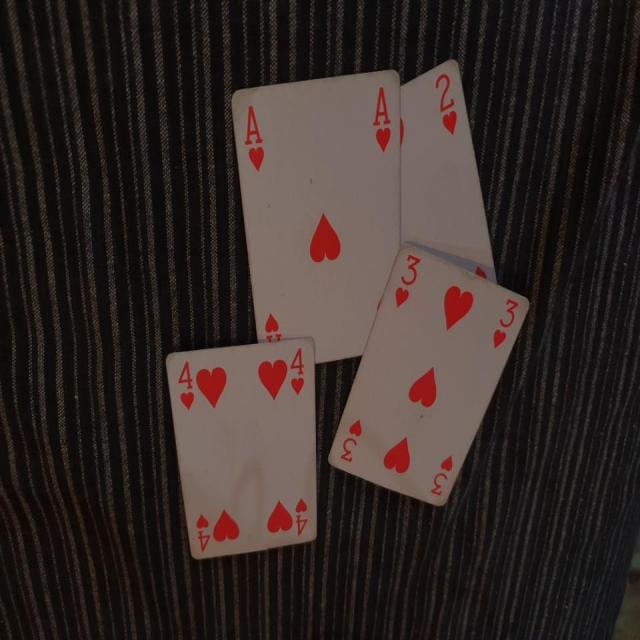2 Hearts: (356, 50, 507, 362)
3 Hearts: (326, 245, 533, 514)
4 Hearts: (157, 334, 327, 569)
A Hearts: (224, 56, 409, 373)
